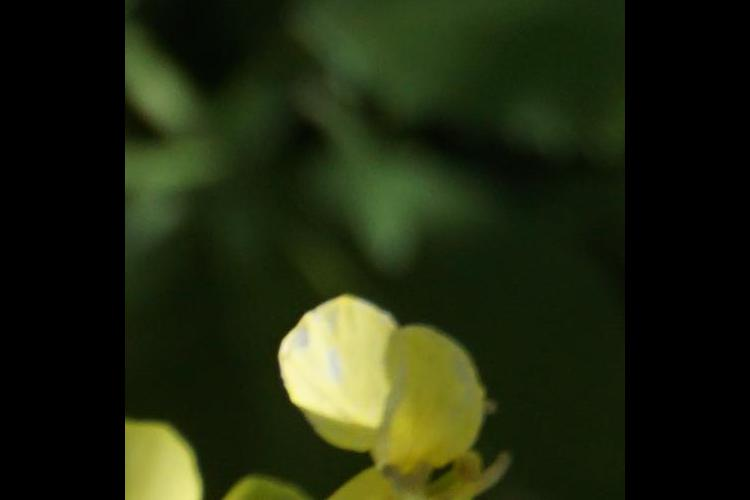yellow: (243, 291, 508, 500)
